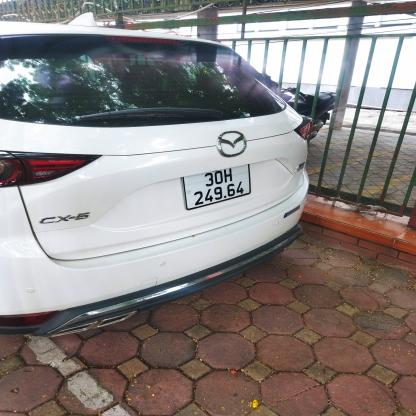biensoxe: (180, 165, 252, 209)
